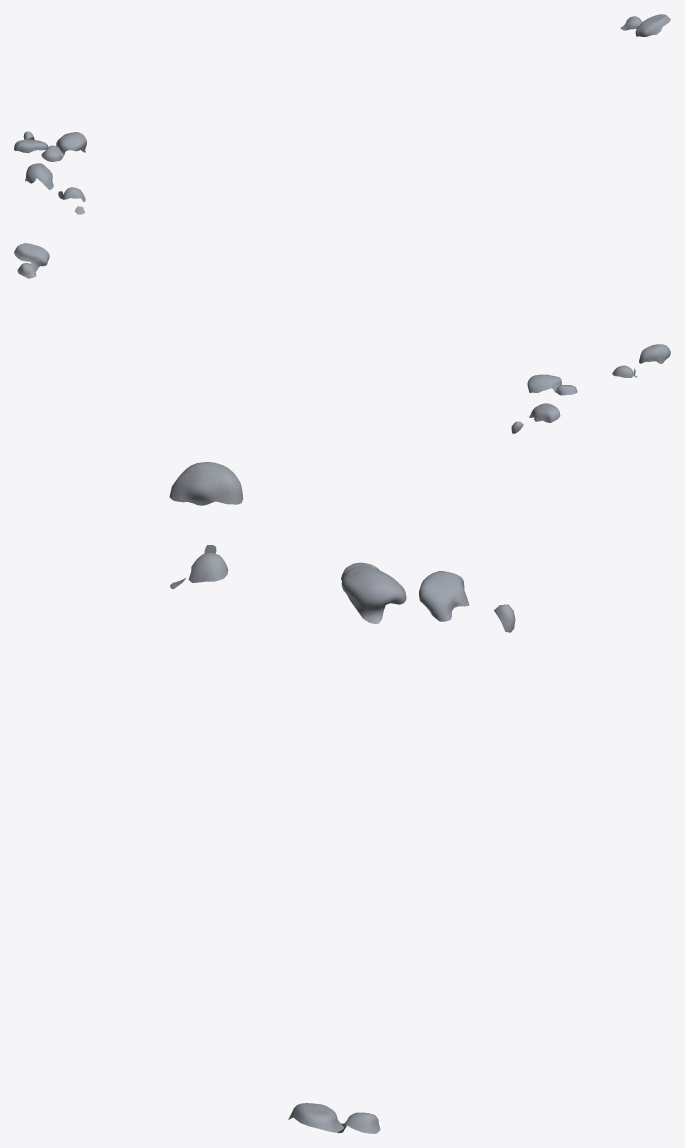
Rendered from pref_sm_beach_winter_snowrock02_lv3.fbx.
3 renders of one model, top to bottom at view 1: azimuth 30°, elevation 25°; view 2: azimuth 150°, elevation 25°; view 3: azimuth 270°, elevation 25°, orthographic. The views are drawn at different scales.
Parts seen in each view (by area): view 1: pref_sm_beach_winter_snowrock02_lv3; view 2: pref_sm_beach_winter_snowrock02_lv3; view 3: pref_sm_beach_winter_snowrock02_lv3.
Boxes of the visible parts, left/top/right/bottom form: pref_sm_beach_winter_snowrock02_lv3: left=14, top=14, right=670, bottom=214; pref_sm_beach_winter_snowrock02_lv3: left=14, top=243, right=670, bottom=433; pref_sm_beach_winter_snowrock02_lv3: left=169, top=462, right=515, bottom=1133.
Size of the model in its own units: 45.33 by 3.47 by 10.89.
